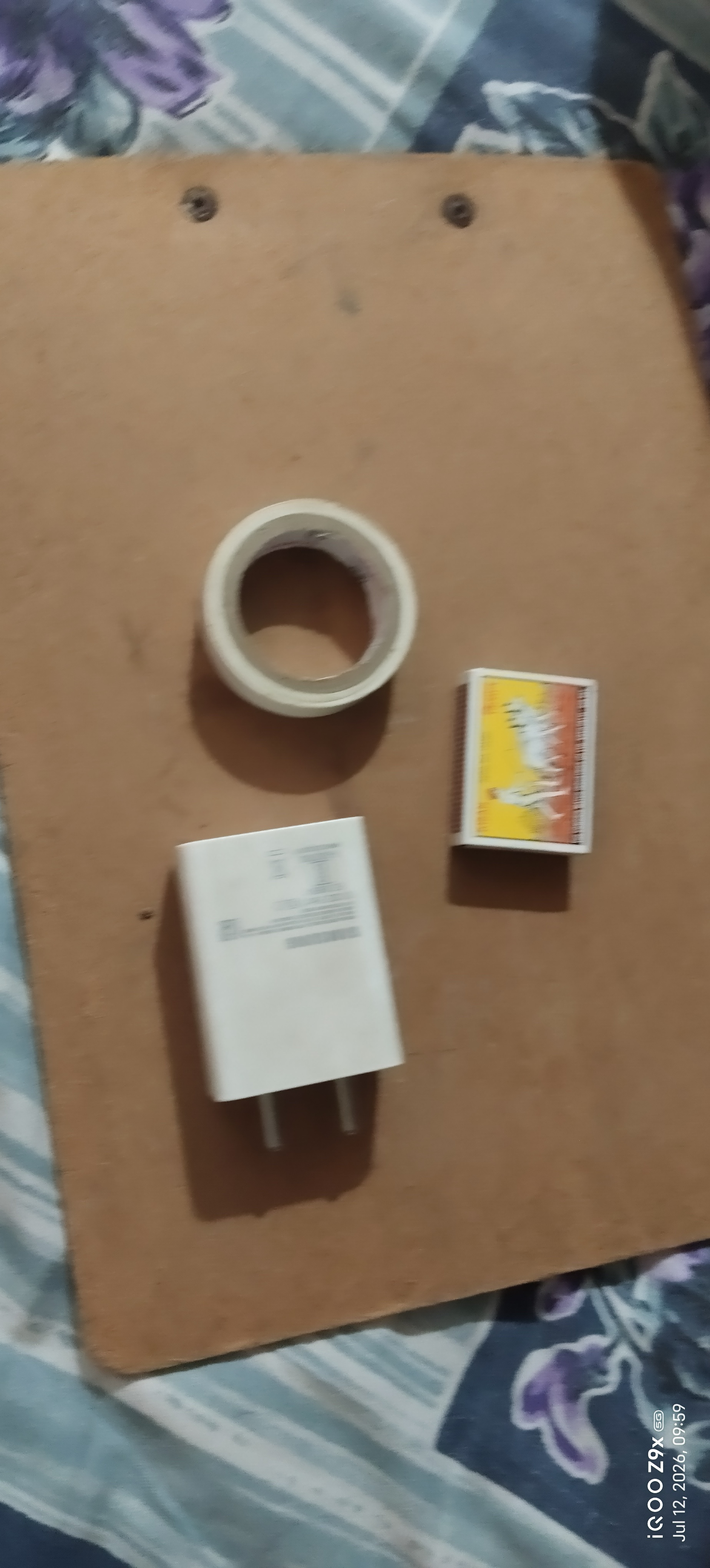charger: (159, 795, 420, 1177)
matchbox: (440, 659, 616, 877)
tape_roll: (179, 487, 430, 730)
